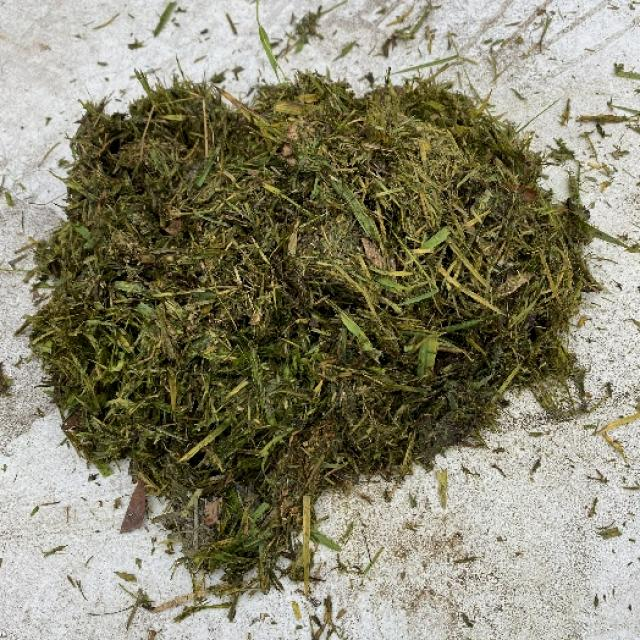organic: (65, 59, 567, 586)
